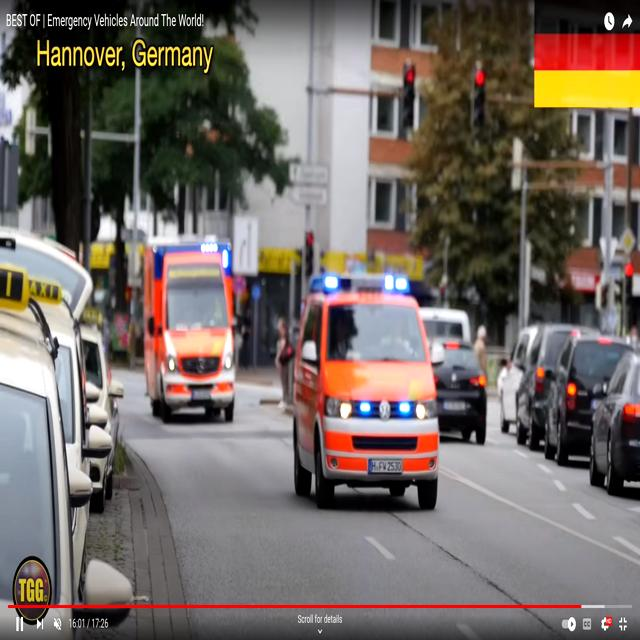emergency-vehicles: (270, 268, 455, 512), (124, 224, 255, 428)
